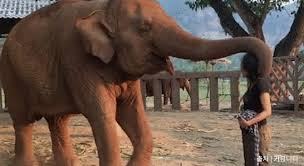Elephant: (0, 0, 274, 164)
